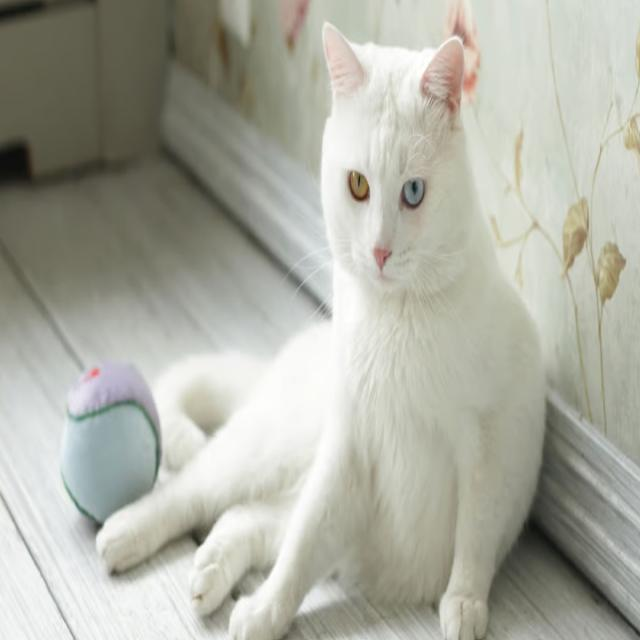Khao Manee: (90, 18, 546, 640)
